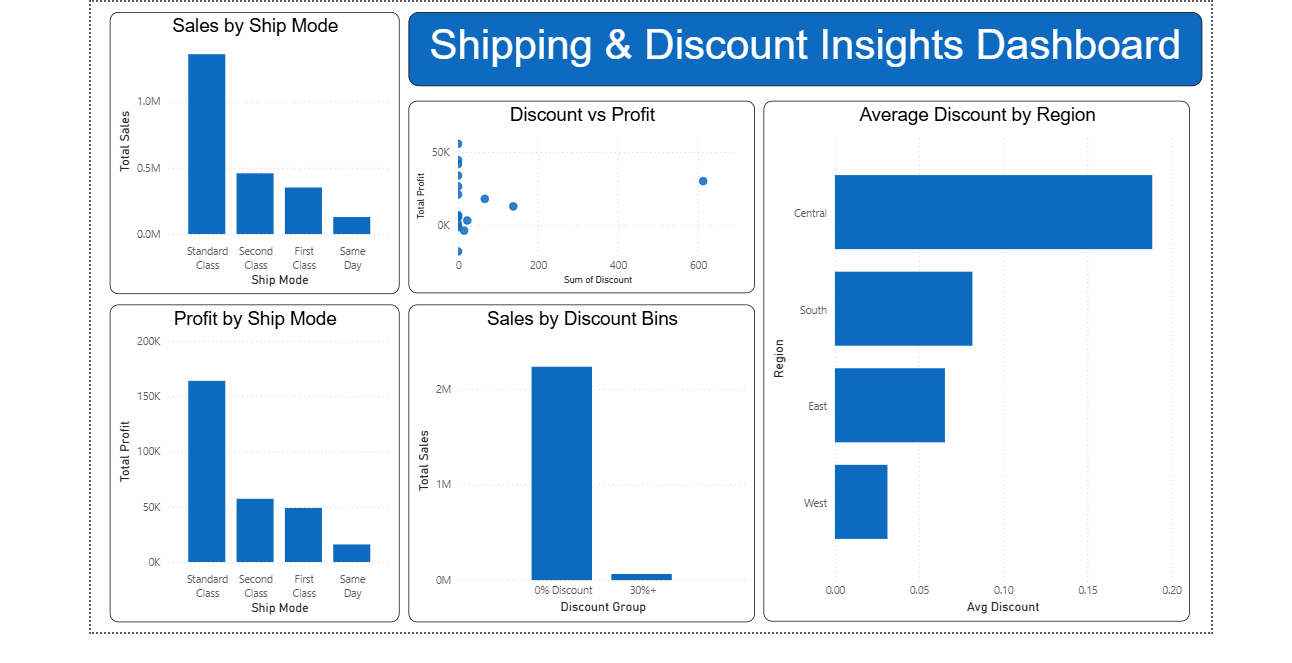

The dashboard page shown, as its layout file describes it:
{"tool":"powerbi","page":{"name":"Page 4","canvas":[1280,720],"ordinal":3},"visuals":[{"type":"textbox","title":"Sales Data Profile & Insights","box":[363.3,10.8,907.5,85.1],"z":0},{"type":"columnChart","title":"Sales by Ship Mode","fields":{"Category":["Sales.Ship Mode"],"Y":["All Measures.Total Sales"]},"box":[21.6,10.8,330.9,322.8],"z":1000},{"type":"columnChart","title":"Profit by Ship Mode","fields":{"Category":["Sales.Ship Mode"],"Y":["All Measures.Total Profit"]},"box":[21.6,345.7,330.9,363.3],"z":2000},{"type":"scatterChart","title":"Discount vs Profit","fields":{"X":["Sum(Sales.Discount)"],"Y":["All Measures.Total Profit"],"Category":["Sales.Sub-Category"]},"box":[363.3,113.4,395.7,220.1],"z":3000},{"type":"columnChart","title":"Sales by Discount Bins","fields":{"Category":["Sales.Discount Group"],"Y":["All Measures.Total Sales"]},"box":[363,346,396,363],"z":4000},{"type":"barChart","title":"Average Discount by Region","fields":{"Category":["Sales.Region"],"Y":["All Measures.Avg Discount"]},"box":[768.4,113.4,487.5,595.6],"z":5000}]}

Visuals, with their boxes in screenshot pixels (x1, y1, x2, y2):
"Sales Data Profile & Insights" textbox: [406,9,1200,84]
"Sales by Ship Mode" columnChart: [106,9,396,292]
"Profit by Ship Mode" columnChart: [106,303,396,621]
"Discount vs Profit" scatterChart: [406,99,752,292]
"Sales by Discount Bins" columnChart: [405,303,752,621]
"Average Discount by Region" barChart: [760,99,1187,621]
